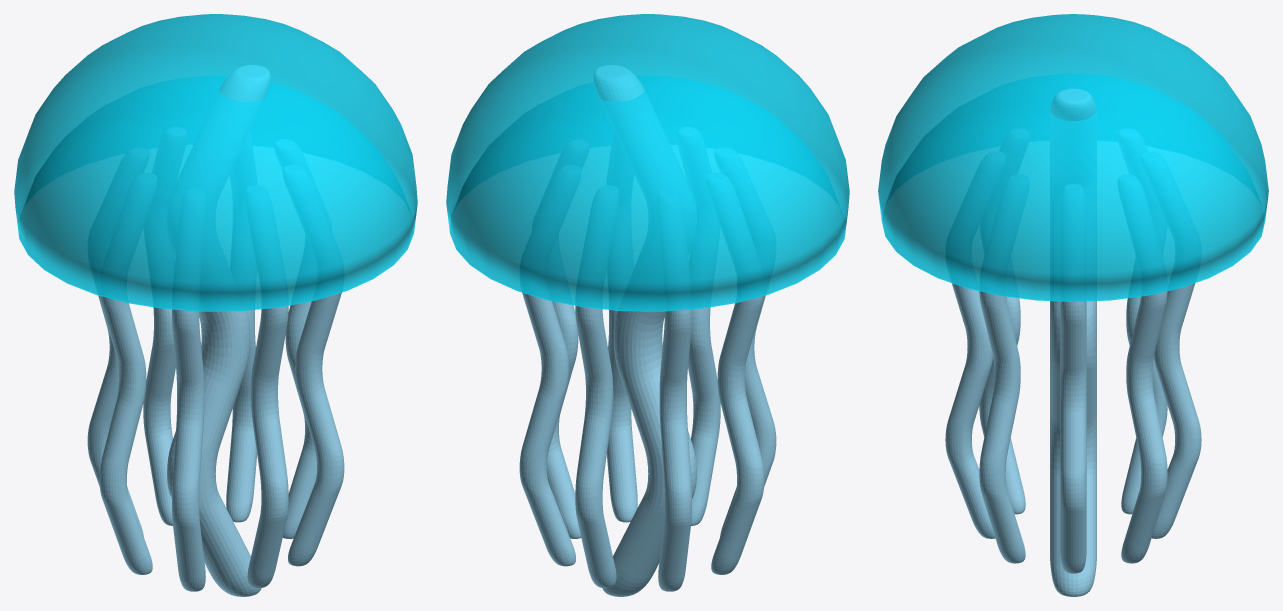
The model's file is Jellyfish.fbx.
The picture shows the model from 3 angles, left to right: view 1: azimuth 30°, elevation 25°; view 2: azimuth 150°, elevation 25°; view 3: azimuth 270°, elevation 25°; orthographic projection. The views are drawn at different scales.
Parts seen in each view (by area): view 1: Sphere, Cylinder.005, Cylinder.004, Cylinder.007, Cylinder.001, Cylinder.006, Cylinder.002, Cylinder.008, Cylinder.003, Cylinder.009; view 2: Sphere, Cylinder.005, Cylinder.002, Cylinder.009, Cylinder.001, Cylinder.008, Cylinder.004, Cylinder.006, Cylinder.003, Cylinder.007; view 3: Sphere, Cylinder.005, Cylinder.003, Cylinder.008, Cylinder.006, Cylinder.002, Cylinder.004, Cylinder.009, Cylinder.007.
Boxes of the visible parts, bbox=[...] form: Sphere: bbox=[14, 14, 417, 311]; Cylinder.005: bbox=[167, 65, 270, 596]; Cylinder.004: bbox=[247, 305, 288, 588]; Cylinder.007: bbox=[172, 309, 205, 591]; Cylinder.001: bbox=[99, 296, 152, 574]; Cylinder.006: bbox=[288, 292, 344, 566]; Cylinder.002: bbox=[143, 307, 175, 525]; Cylinder.008: bbox=[226, 310, 257, 522]; Cylinder.003: bbox=[282, 301, 316, 538]; Cylinder.009: bbox=[87, 295, 143, 536]; Sphere: bbox=[446, 14, 849, 311]; Cylinder.005: bbox=[593, 65, 696, 596]; Cylinder.002: bbox=[575, 305, 616, 588]; Cylinder.009: bbox=[658, 309, 691, 591]; Cylinder.001: bbox=[711, 296, 764, 574]; Cylinder.008: bbox=[519, 292, 575, 566]; Cylinder.004: bbox=[688, 307, 720, 525]; Cylinder.006: bbox=[607, 310, 637, 522]; Cylinder.003: bbox=[547, 301, 581, 538]; Cylinder.007: bbox=[720, 295, 776, 536]; Sphere: bbox=[878, 14, 1268, 301]; Cylinder.005: bbox=[1050, 89, 1096, 596]; Cylinder.003: bbox=[1060, 301, 1086, 573]; Cylinder.008: bbox=[1121, 291, 1167, 563]; Cylinder.006: bbox=[979, 291, 1025, 563]; Cylinder.002: bbox=[1151, 283, 1201, 538]; Cylinder.004: bbox=[945, 283, 995, 538]; Cylinder.009: bbox=[1121, 296, 1167, 514]; Cylinder.007: bbox=[979, 296, 1025, 514].
Size of the model in its own units: 1701 by 2612 by 1701.
